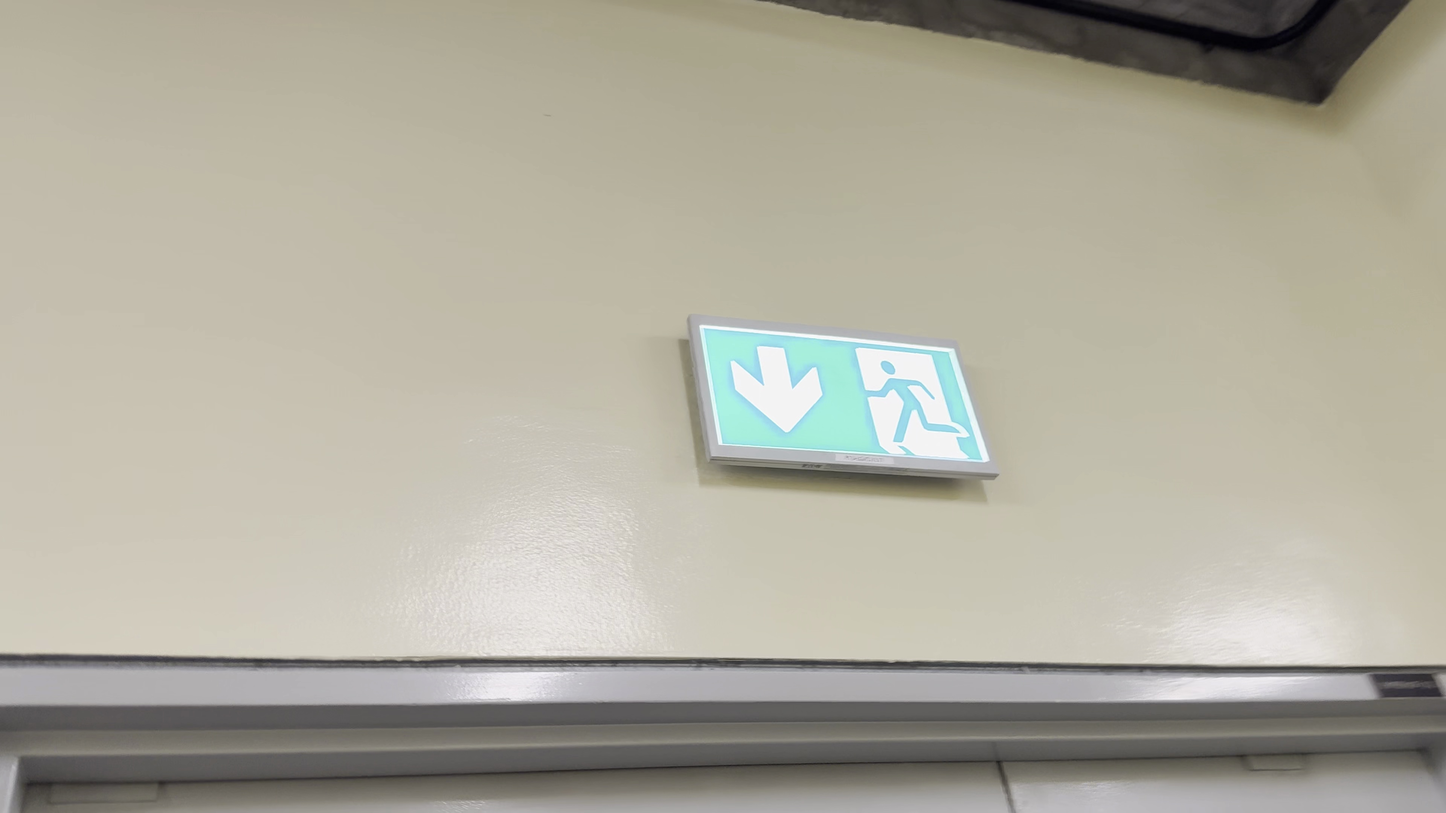emergency_exit: (685, 312, 1000, 481)
